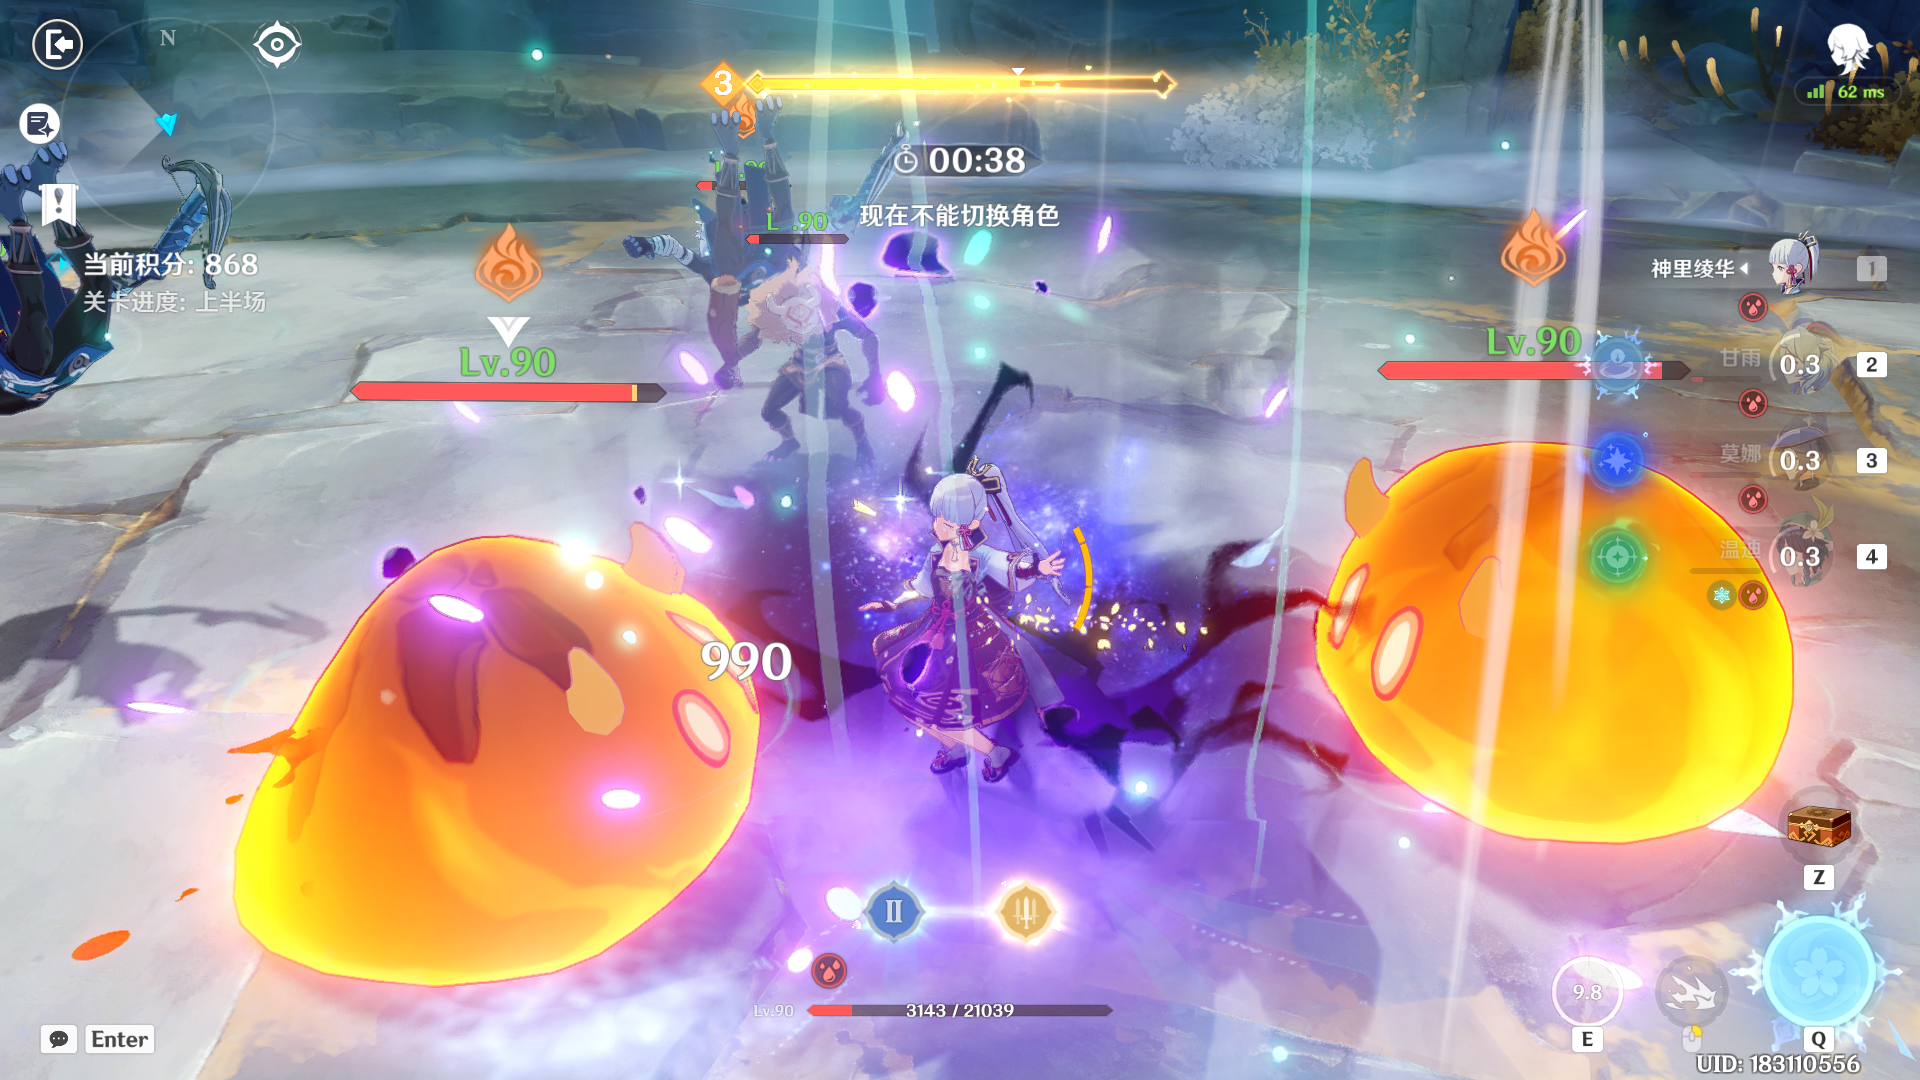character: (869, 423, 1127, 825)
hili: (683, 232, 934, 525)
slime: (193, 477, 815, 1067), (1291, 417, 1797, 869)
